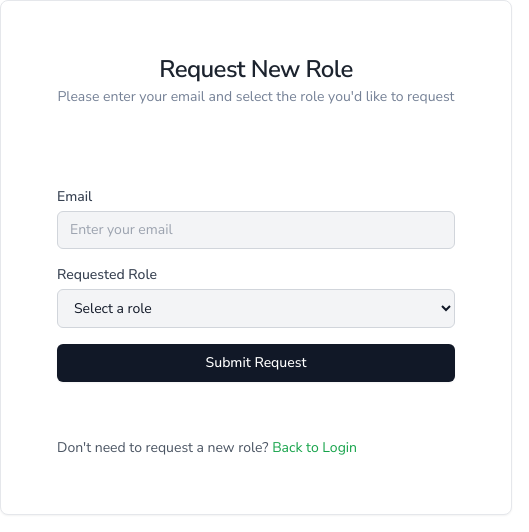
Test: NewRoleRequestCard › submits the form successfully
Type "test@example.com" into the field labelled "Email" at (256, 230), box left=57, top=211, right=455, bottom=249
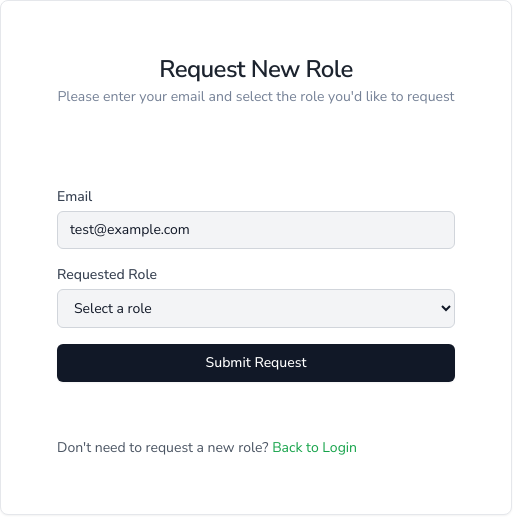
Select "Instructor" in the dropdown labelled "Requested Role" at (256, 308), box left=57, top=289, right=455, bottom=328
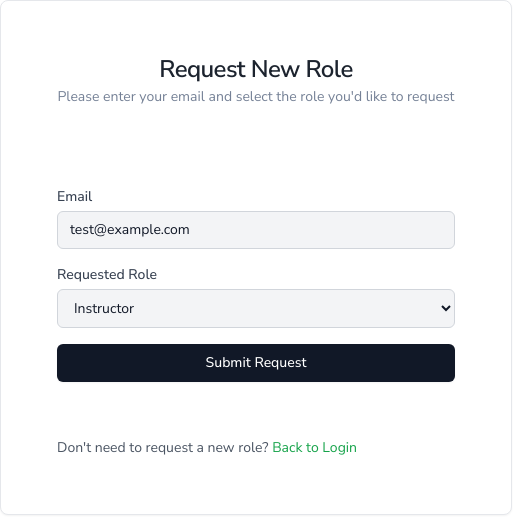
Click the button "Submit Request" at (256, 363), box left=57, top=344, right=455, bottom=382
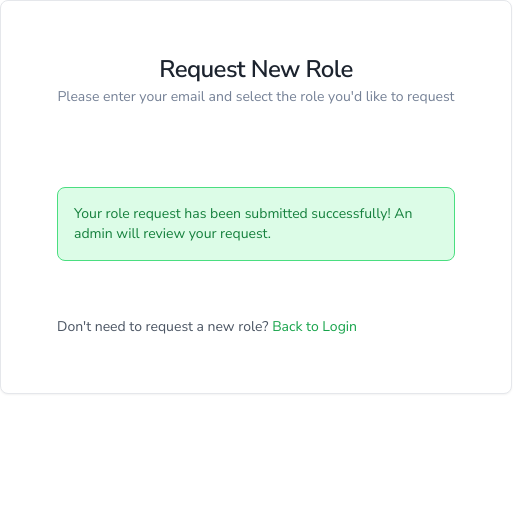
Expected: the text "Your role request has been submitted successfully!" is shown, left=74, top=204, right=412, bottom=243
